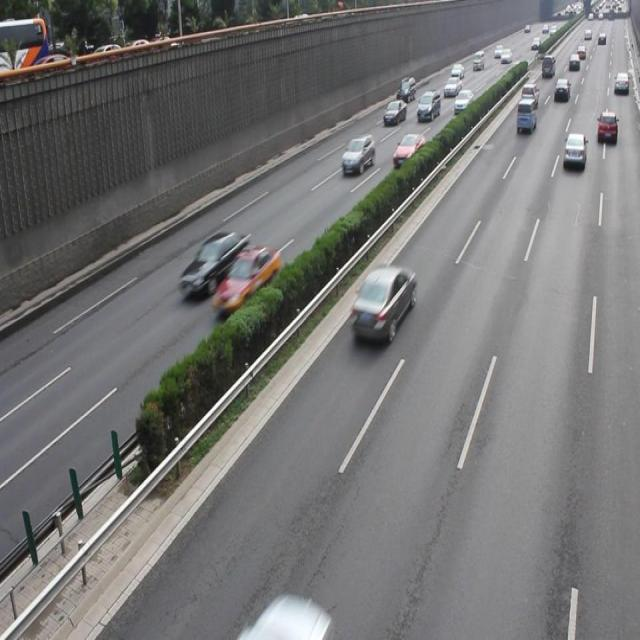car: (350, 263, 416, 343), (212, 242, 279, 312), (180, 230, 247, 300), (340, 134, 374, 174), (392, 131, 424, 165), (562, 131, 585, 169)
